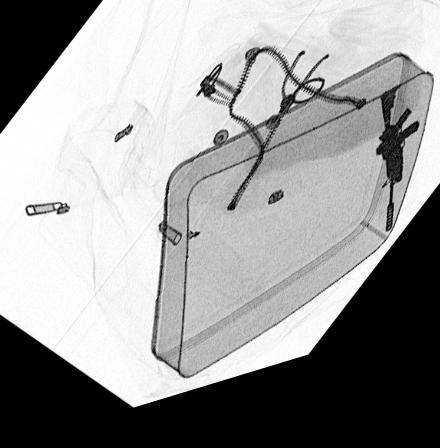Gun: (375, 106, 420, 254)
